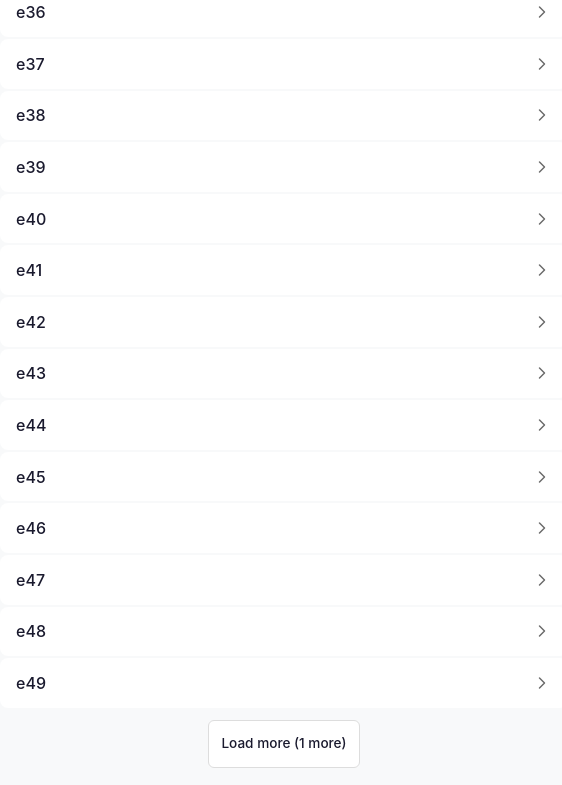
EntryListPage › pagination › appends the next page on load-more
(page scrolled)
Click the button with aria-label "Load more entries" at (284, 744), box [208,720,360,768]
(page scrolled)
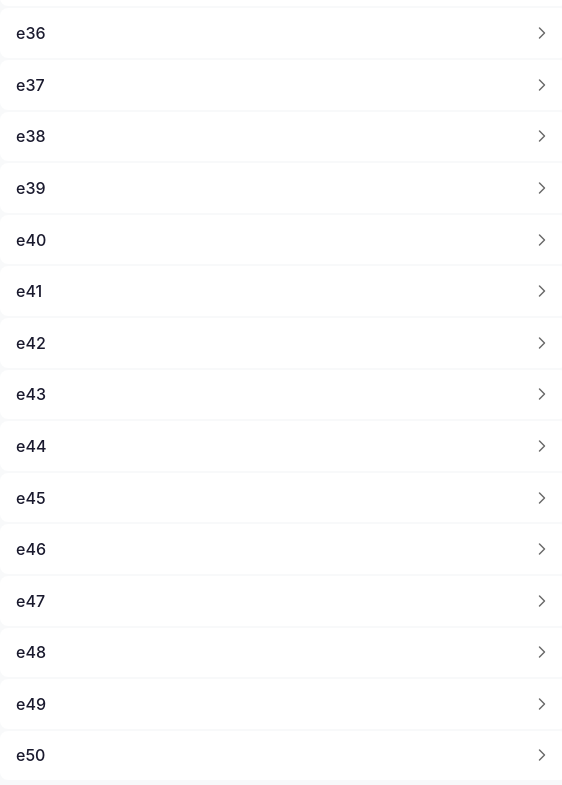
Expected: the text "e50" is shown, [16,746,45,766]
